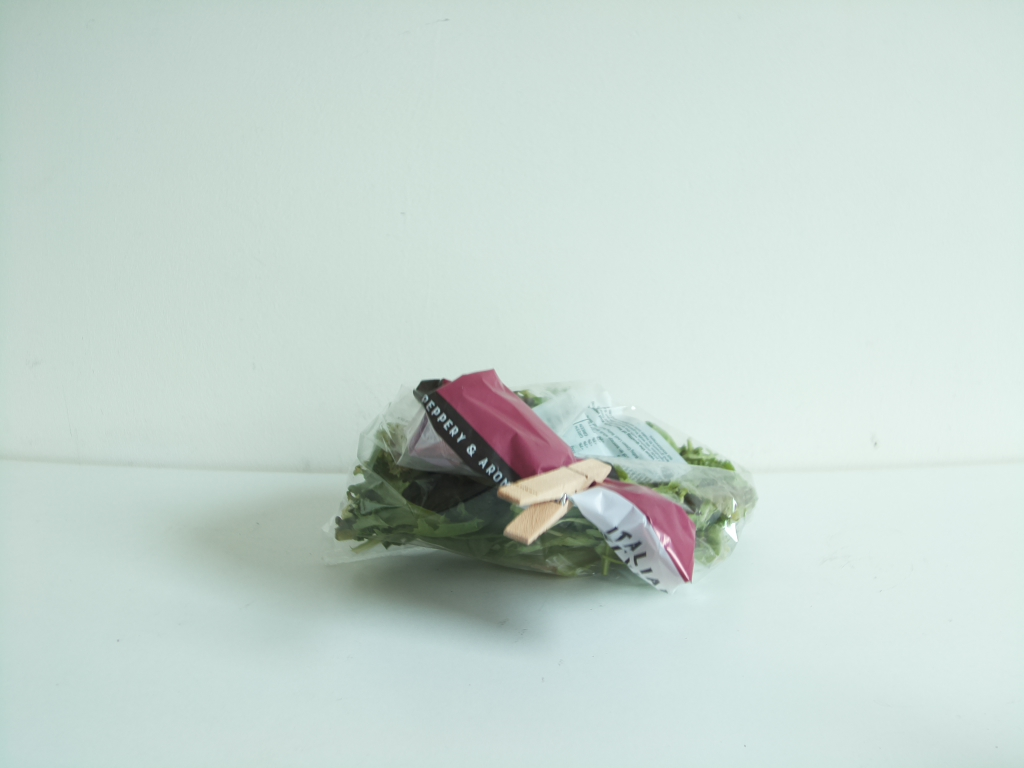salad: (331, 368, 754, 591)
